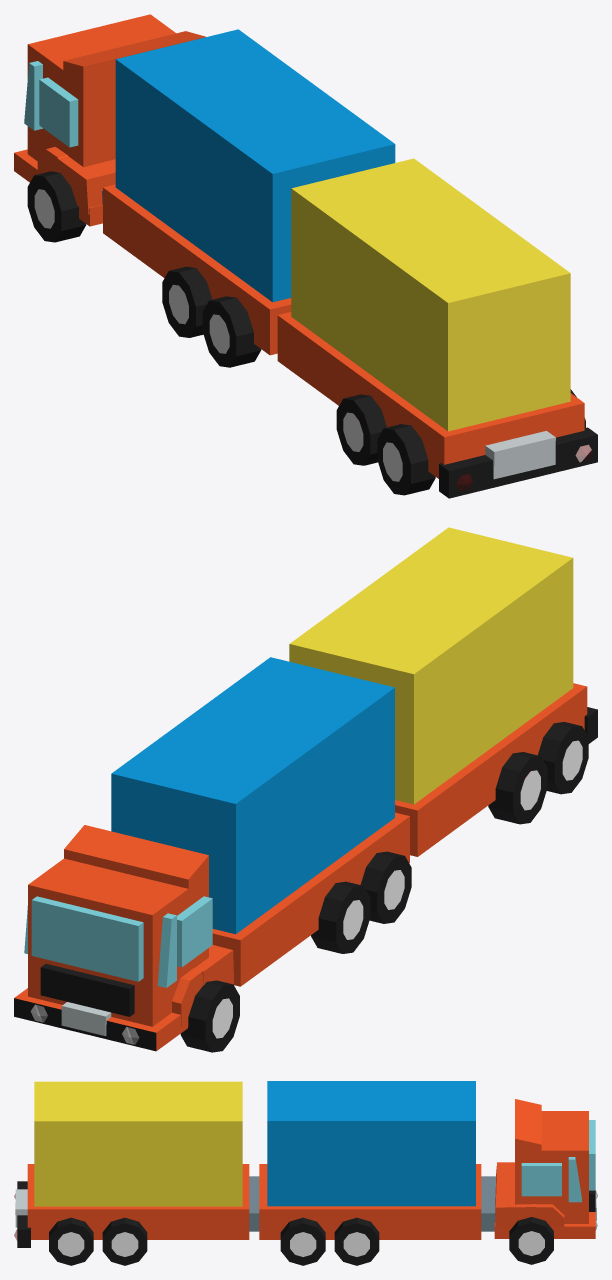
File: truck.obj
3 renders of one model, top to bottom at view 1: azimuth 30°, elevation 25°; view 2: azimuth 150°, elevation 25°; view 3: azimuth 270°, elevation 25°, orthographic. The views are drawn at different scales.
Visible parts, largest first — view 1: TruckLongOrange.001_mesh1355834799.000, ContainerbigTruck_mesh1355834799.005; view 2: TruckLongOrange.001_mesh1355834799.000, ContainerbigTruck_mesh1355834799.005; view 3: TruckLongOrange.001_mesh1355834799.000, ContainerbigTruck_mesh1355834799.005.
Part boxes in pixels (x1,y1,x2,y2): TruckLongOrange.001_mesh1355834799.000: (14,14,597,498); ContainerbigTruck_mesh1355834799.005: (115,29,395,302); TruckLongOrange.001_mesh1355834799.000: (14,527,597,1052); ContainerbigTruck_mesh1355834799.005: (111,657,394,934); TruckLongOrange.001_mesh1355834799.000: (14,1081,597,1265); ContainerbigTruck_mesh1355834799.005: (267,1081,475,1206).
Bounding box in the file's own units: 0.2033 × 0.2241 × 0.8687.
